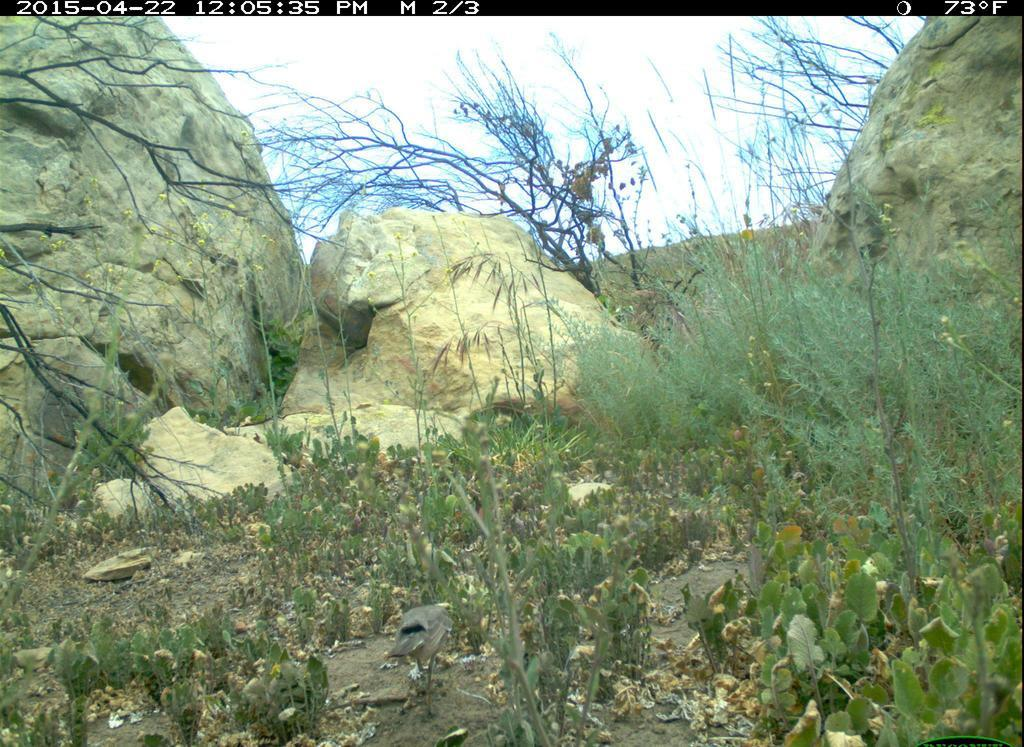bird: (383, 597, 461, 722)
